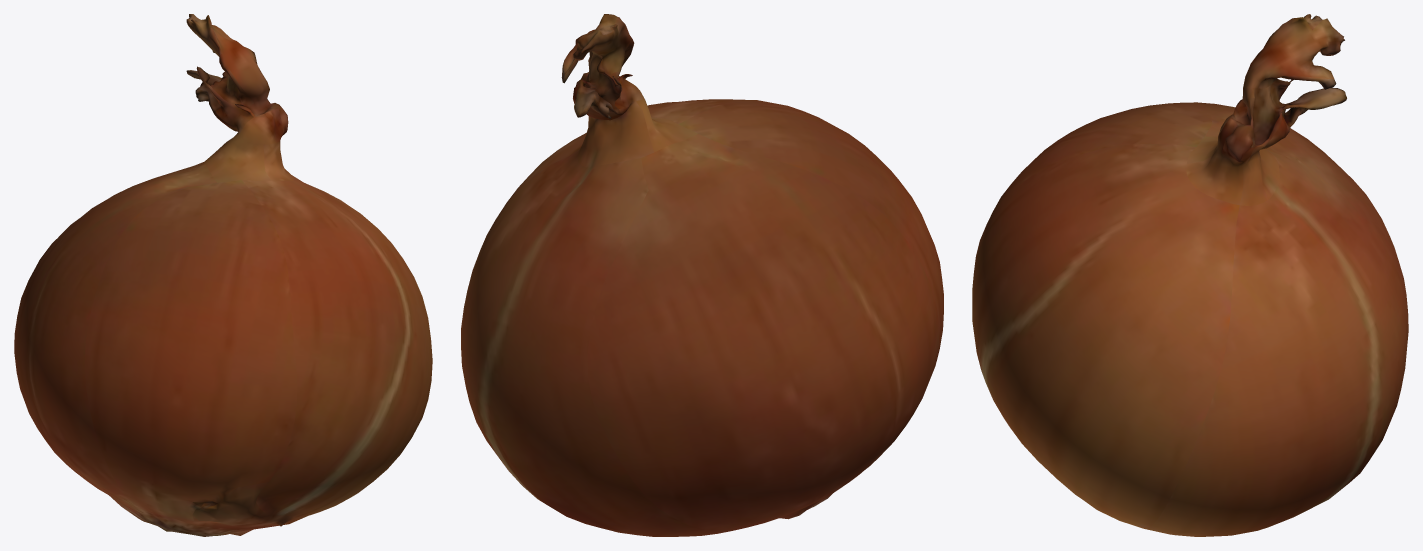
Rendered from yellow_onion.glb.
The picture shows the model from 3 angles, left to right: view 1: azimuth 30°, elevation 25°; view 2: azimuth 150°, elevation 25°; view 3: azimuth 270°, elevation 25°; orthographic projection. The views are drawn at different scales.
Parts seen in each view (by area): view 1: yellow_onion; view 2: yellow_onion; view 3: yellow_onion.
Part boxes in pixels (box(x1,y1,x2,y2)): yellow_onion: box(14, 14, 432, 536); yellow_onion: box(461, 14, 943, 536); yellow_onion: box(972, 14, 1408, 536).
Size of the model in its own units: 0.0725 by 0.0864 by 0.0686.
1 material, 1 textured.
